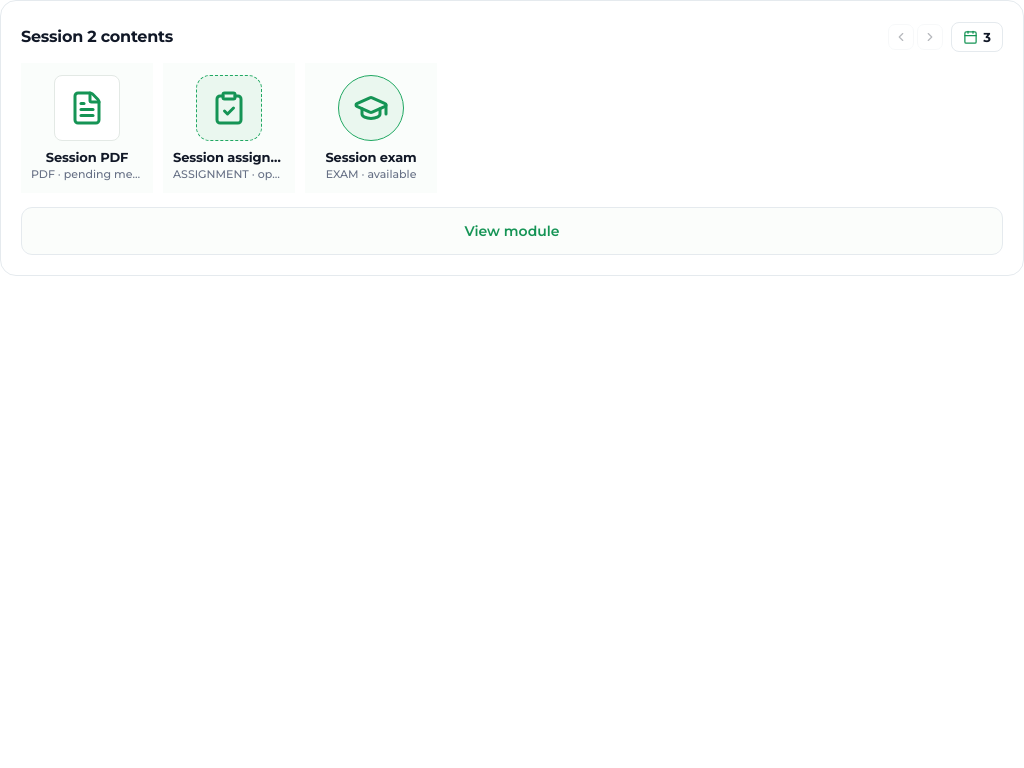
Test: active session contents › does not request protected delivery for an unreleased PDF
Click the heading "Session PDF". click: (87, 157)
box: [46,149,128,165]
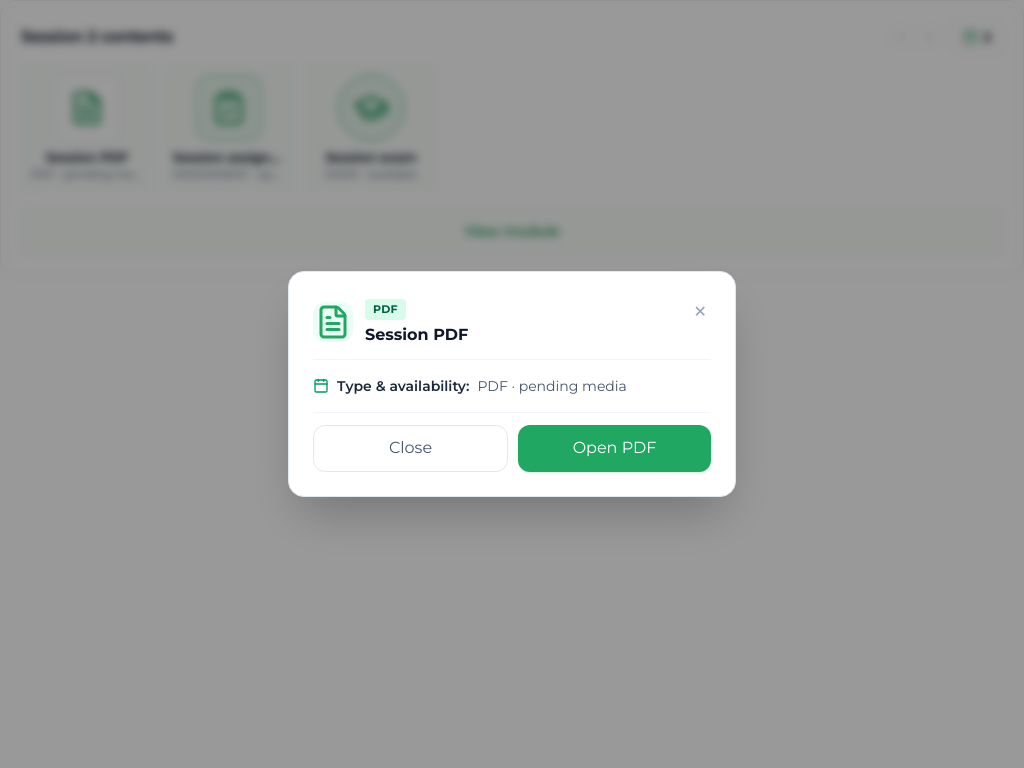
Click the button "Open PDF". click: (614, 448)
box: [518,425,711,472]
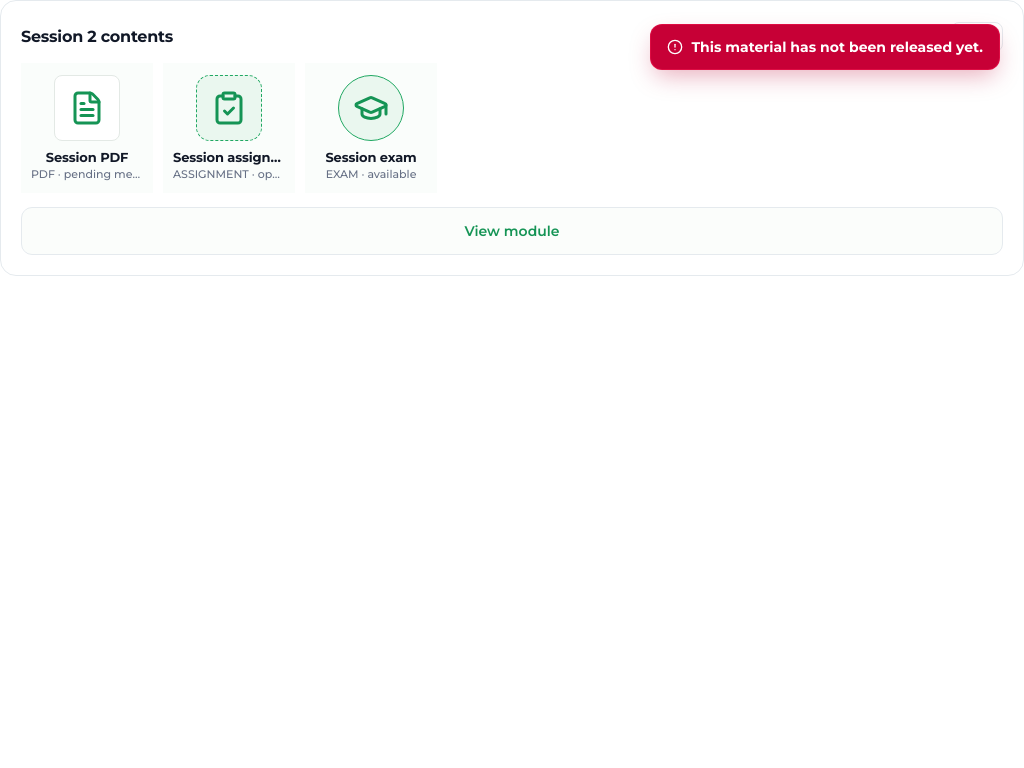
Check: the heading "Session assignment" is shown, box [173,149,285,165]
Check: the text "This material has not been released yet." is shown, box [691,37,983,57]
